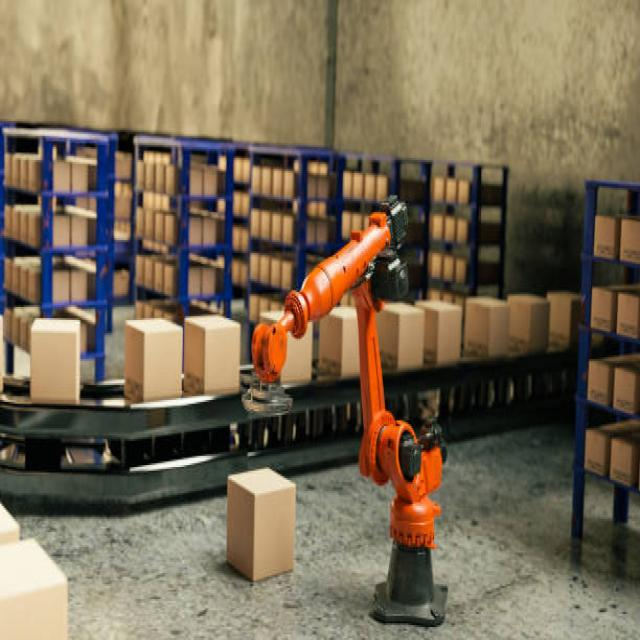Robotic-arm: (247, 188, 467, 640)
